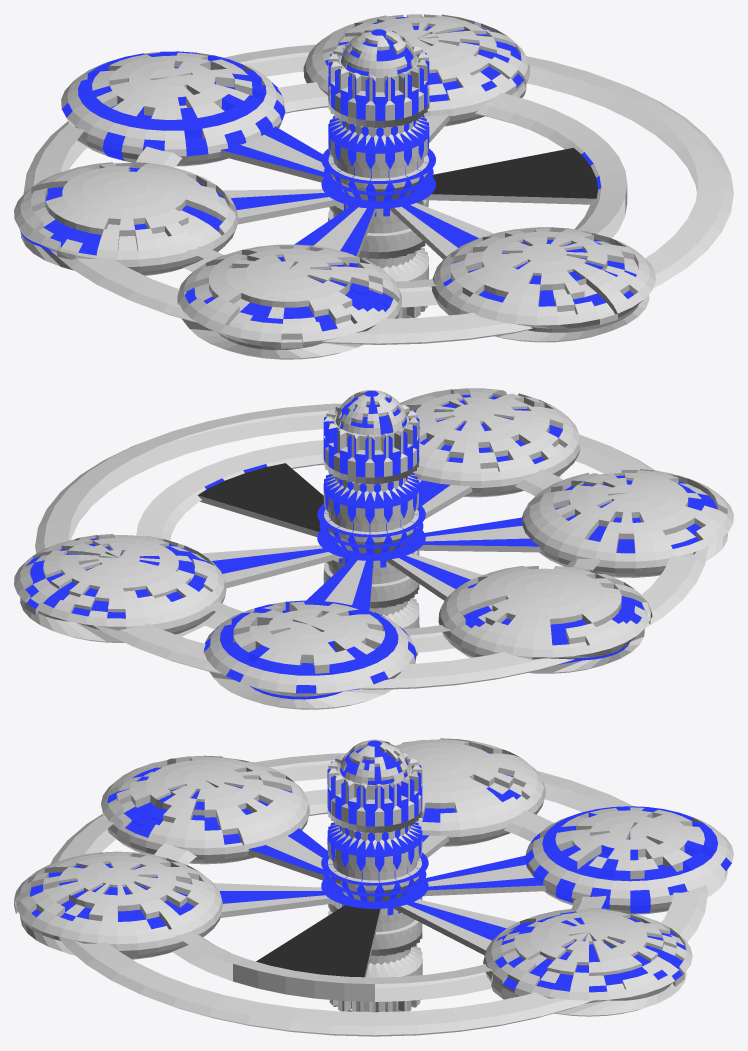
File: spaceStation2.glb
3 renders of one model, top to bottom at view 1: azimuth 30°, elevation 25°; view 2: azimuth 150°, elevation 25°; view 3: azimuth 270°, elevation 25°, orthographic. The views are drawn at different scales.
Parts seen in each view (by area): view 1: OuterRings, MainCenterRing; view 2: OuterRings, MainCenterRing; view 3: OuterRings, MainCenterRing.
Boxes of the visible parts, x1=… form: OuterRings: x1=14, y1=14, x2=733, y2=359; MainCenterRing: x1=321, y1=144, x2=435, y2=208; OuterRings: x1=14, y1=388, x2=733, y2=709; MainCenterRing: x1=317, y1=504, x2=425, y2=560; OuterRings: x1=14, y1=738, x2=733, y2=1036; MainCenterRing: x1=321, y1=852, x2=428, y2=908.
Bounding box in the file's own units: 104 × 48.07 × 111.
